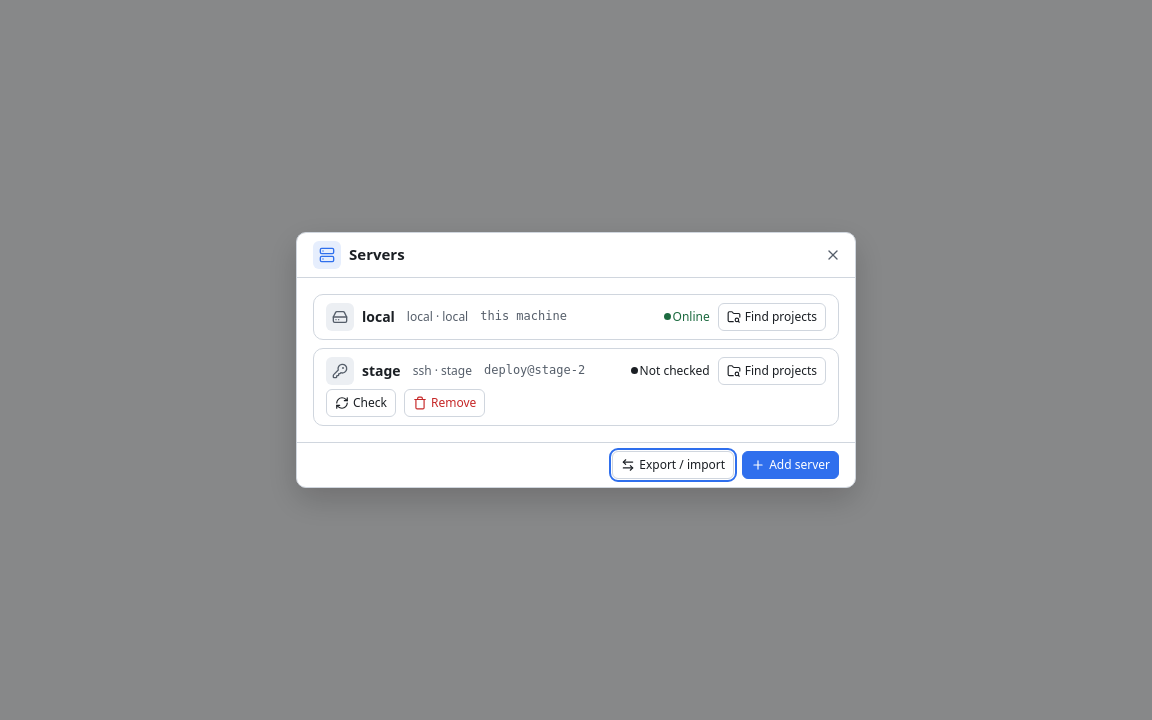
Scenario: ServersDialog › checks a server and trusts an unknown host key after confirmation
The image size is (1152, 720).
Click the button "Check": (361, 403) x1=326 y1=389 x2=396 y2=417
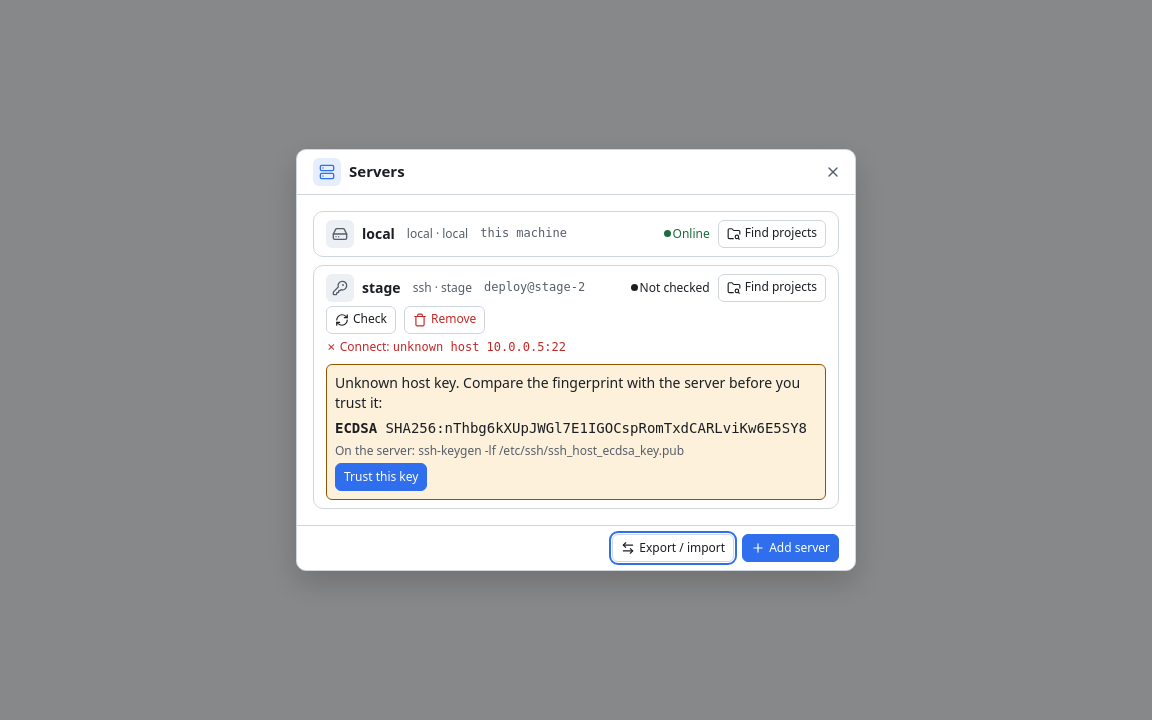
Now the text "SHA256:nThbg6kXUpJWGl7E1IGOCspRomTxdCARLviKw6E5SY8" is shown, box x1=386 y1=420 x2=807 y2=436
Now the list item "stage" shows "ECDSA", box x1=335 y1=420 x2=377 y2=436
Now the list item "stage" shows "ssh-keygen -lf /etc/ssh/ssh_host_ecdsa_key.pub", box x1=335 y1=442 x2=684 y2=459
Click the button "Trust this key": (381, 477) x1=335 y1=463 x2=427 y2=491
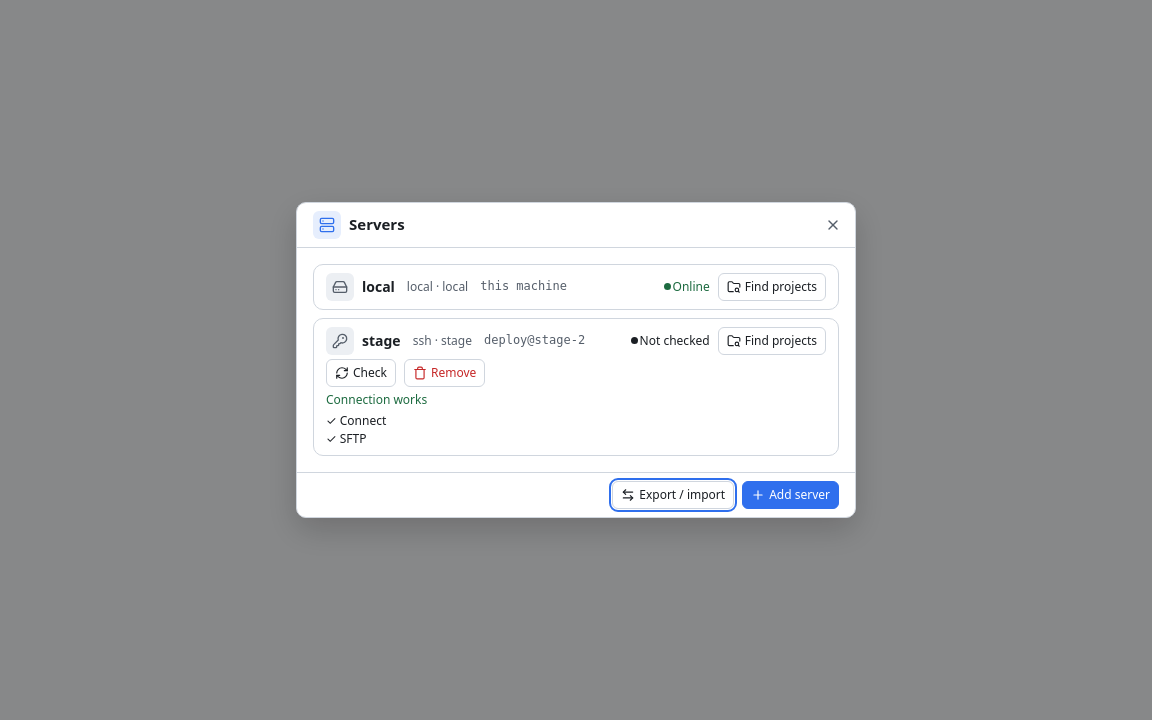
Now the text "Connection works" is shown, box x1=326 y1=391 x2=427 y2=408
